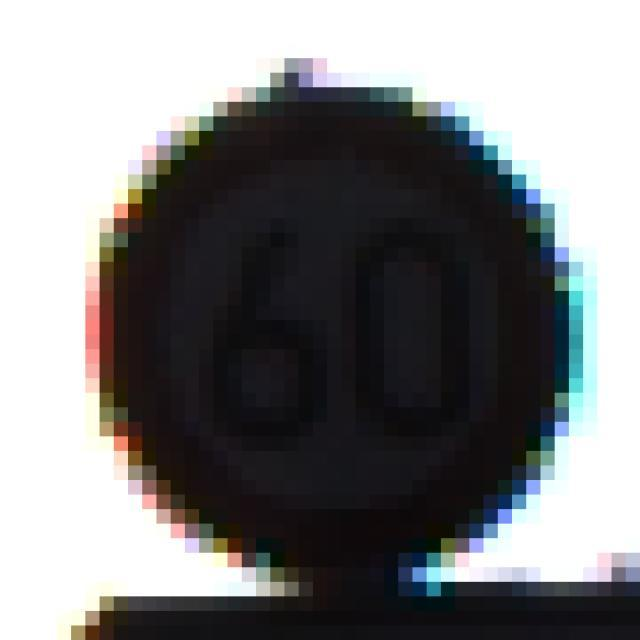Ograniczenie predkosci do 60: (101, 95, 555, 562)
